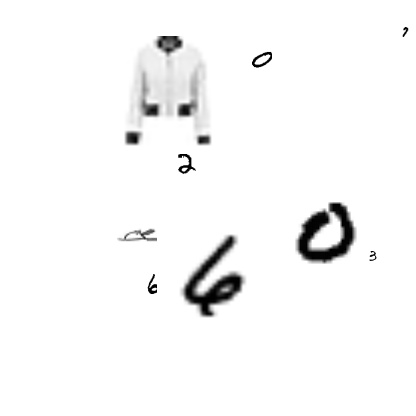0: (284, 191, 368, 275), (248, 45, 276, 73)
2: (172, 150, 200, 178)
3: (366, 249, 380, 263)
6: (157, 224, 269, 336), (138, 272, 166, 300)
7: (398, 24, 412, 38)
Coat: (110, 36, 222, 148)
Sandal: (117, 214, 159, 256)
